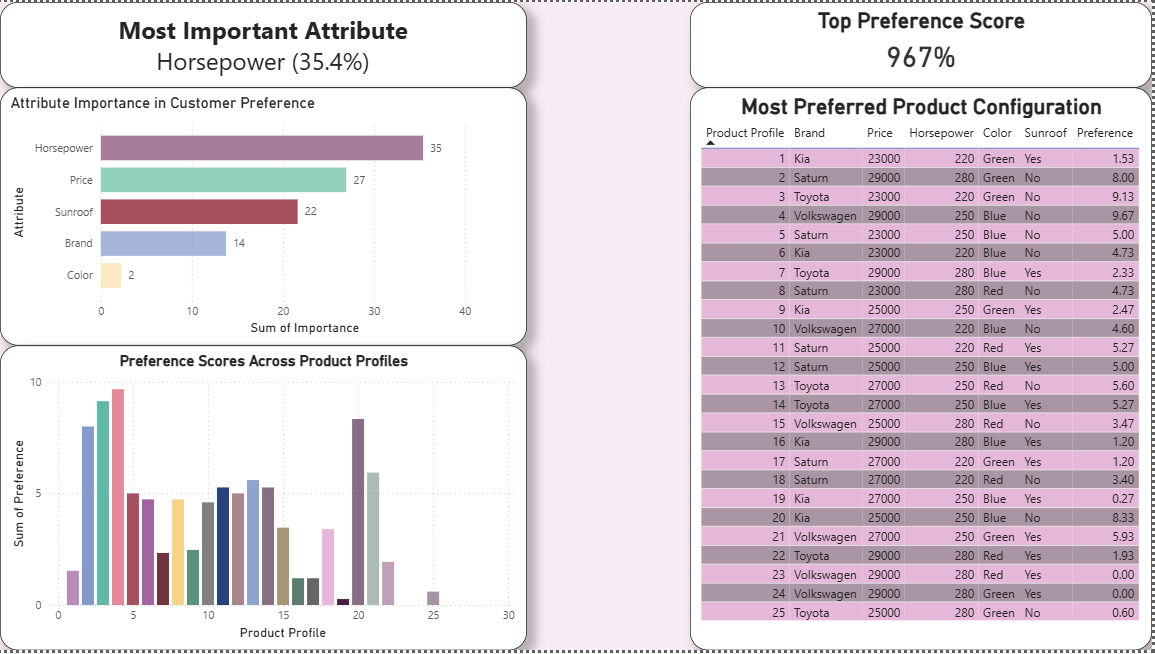

This screenshot's page, from the dashboard's own definition file:
{"tool":"powerbi","page":{"name":"Conjoin Analysis Dashboard","canvas":[1280,720],"ordinal":1},"visuals":[{"type":"advanceCardE03760C5AB684758B56AA29F9E6C257B","title":"Top Preference Score","fields":{"mainMeasure":["Max(profiles_ranked.Preference)"]},"box":[766.7,0,513.3,95],"z":0},{"type":"textbox","title":"Most Important Attribute","box":[0,0,765.9,95.5],"z":1000},{"type":"clusteredBarChart","title":"Attribute Importance in Customer Preference","fields":{"Category":["attribute_importance.Attribute"],"Y":["Sum(attribute_importance.Importance)"]},"box":[0,95.5,765.9,286.6],"z":2000},{"type":"tableEx","title":"Most Preferred Product Configuration","fields":{"Values":["profiles_ranked.Product Profile","profiles_ranked.Brand","profiles_ranked.Price","profiles_ranked.Horsepower","profiles_ranked.Color","profiles_ranked.Sunroof","profiles_ranked.Preference"]},"box":[766.7,95,513.3,625],"z":3000},{"type":"clusteredColumnChart","title":"Preference Scores Across Product Profiles","fields":{"Y":["Sum(profiles_ranked.Preference)"],"Category":["profiles_ranked.Product Profile"]},"box":[0,382.1,765.9,336.8],"z":4000}]}

Visuals, with their boxes in screenshot pixels (x1, y1, x2, y2), scaled from the page's 1280x720 canvas onto the 1155x654 screenshot:
"Top Preference Score" advanceCardE03760C5AB684758B56AA29F9E6C257B: Rect(692, 0, 1154, 86)
"Most Important Attribute" textbox: Rect(0, 0, 691, 87)
"Attribute Importance in Customer Preference" clusteredBarChart: Rect(0, 87, 691, 347)
"Most Preferred Product Configuration" tableEx: Rect(692, 86, 1154, 653)
"Preference Scores Across Product Profiles" clusteredColumnChart: Rect(0, 347, 691, 653)
